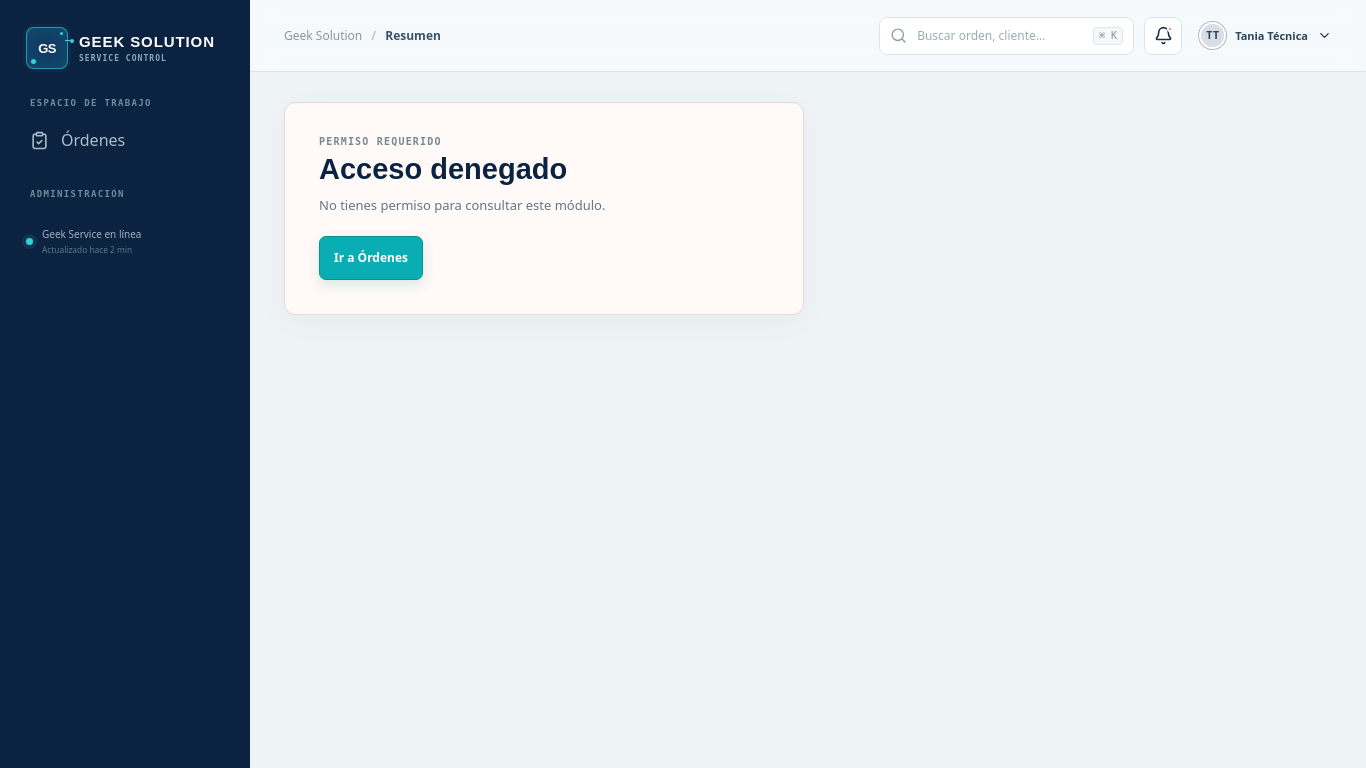
Test: AppShell › navigates to the persistent orders workspace
Step 1. Click the button "Órdenes" → (125, 140), box [18,118,232,162]
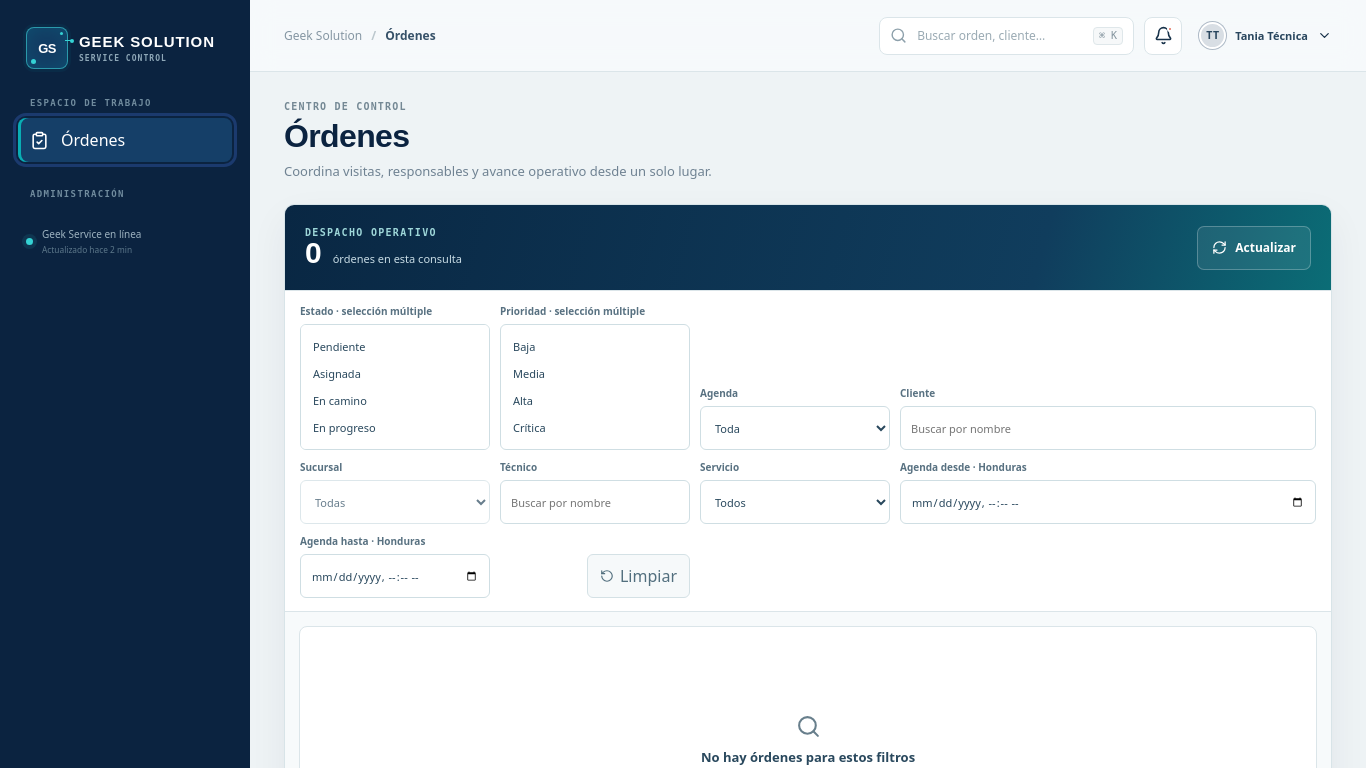
Result: the heading "Órdenes" is shown at [284,118,409,154]
Result: the text "No hay órdenes para estos filtros" is shown at [701,748,915,766]
